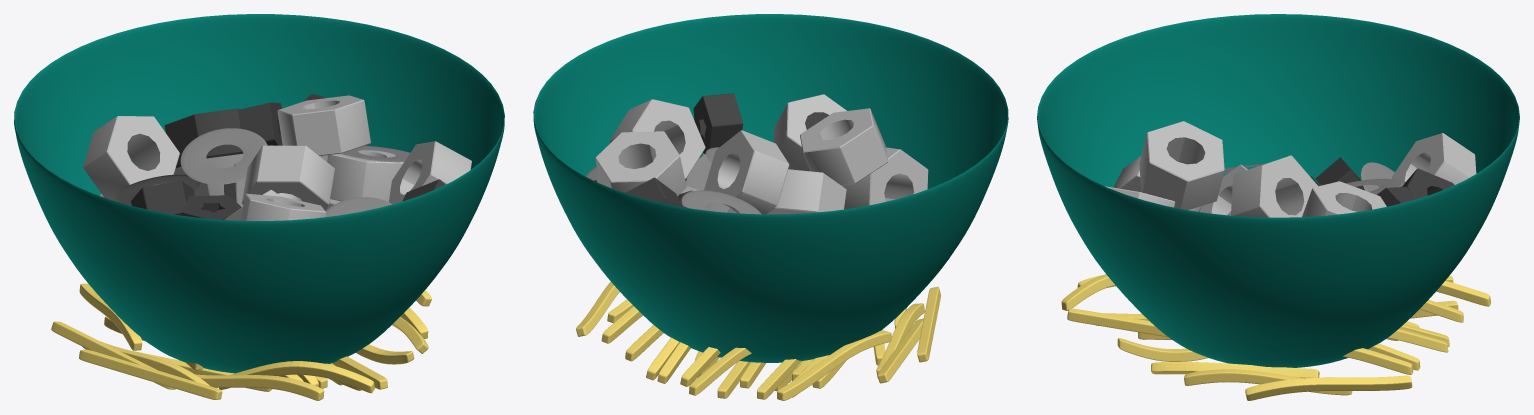
The model's file is yemekler.fbx.
3 views of the same model, side by side, from view 1: azimuth 30°, elevation 25°; view 2: azimuth 150°, elevation 25°; view 3: azimuth 270°, elevation 25° (orthographic). The views are drawn at different scales.
Visible parts, largest first — view 1: kahvaltılık, pattisbabaağğğğ; view 2: kahvaltılık, pattisbabaağğğğ; view 3: kahvaltılık, pattisbabaağğğğ.
Part boxes in pixels (<box>): kahvaltılık: <box>14,14,504,373</box>; pattisbabaağğğğ: <box>51,283,431,400</box>; kahvaltılık: <box>533,14,1008,362</box>; pattisbabaağğğğ: <box>576,281,940,400</box>; kahvaltılık: <box>1037,14,1519,367</box>; pattisbabaağğğğ: <box>1061,274,1491,400</box>.
Bounding box in the file's own units: 0.2774 × 0.1378 × 0.2774.
